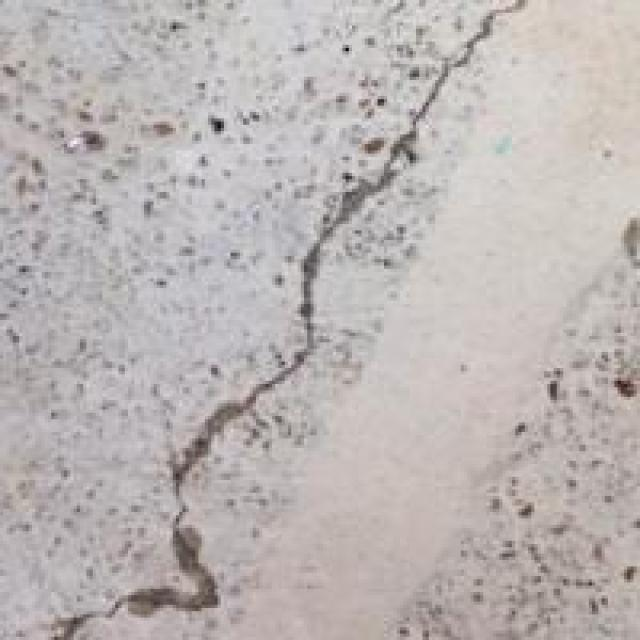Crack: (51, 3, 538, 624)
